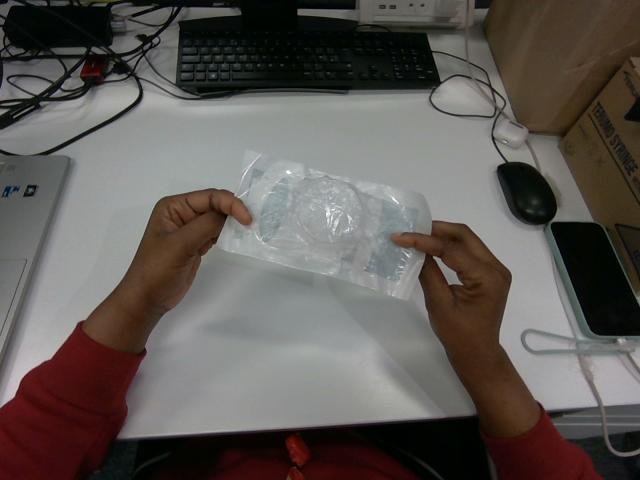gallipot: (217, 152, 430, 298)
